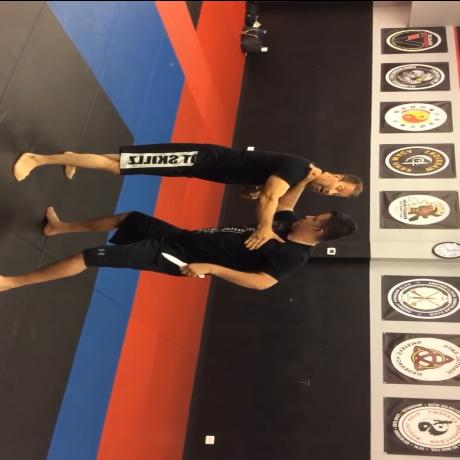1: (0, 202, 353, 292), (0, 140, 364, 207)
weapon: (160, 249, 206, 278)
